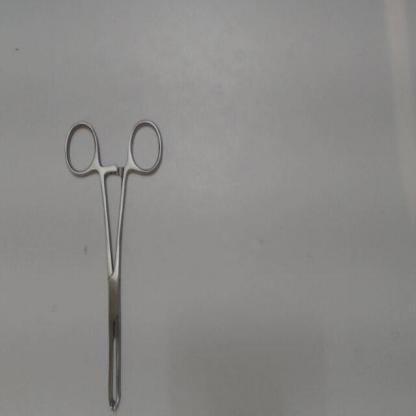Allis Tissue Forceps: (57, 107, 168, 414)
